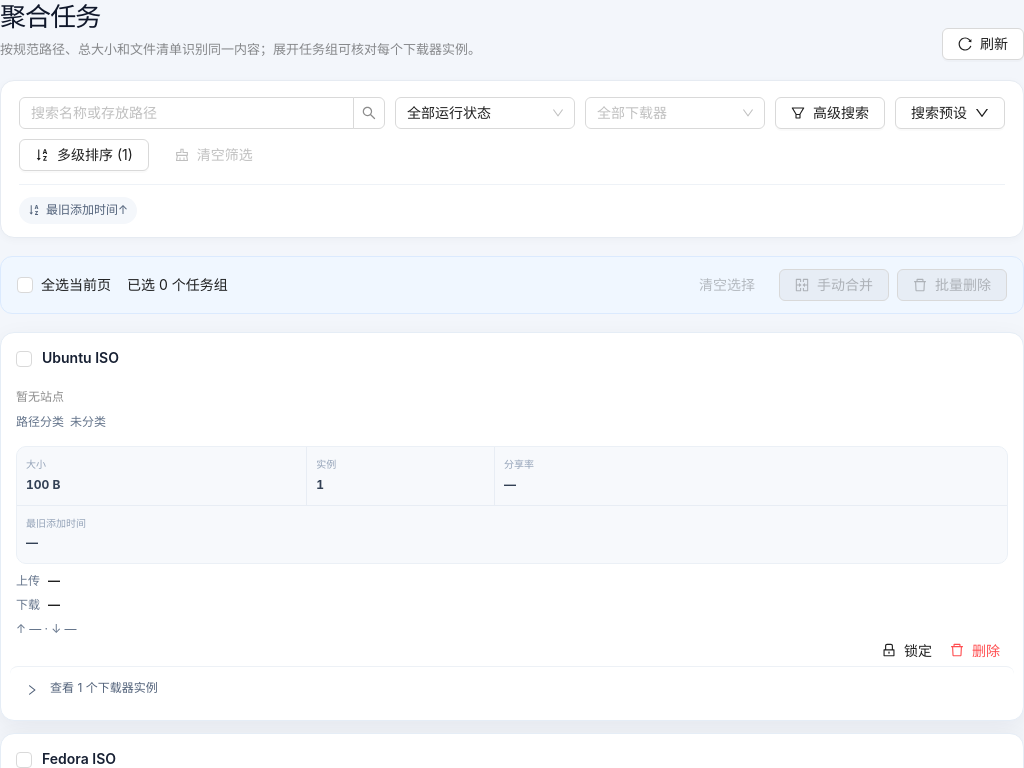
Test: bulk selection and deletion › submits one cross-group plan, tracks the job and clears selection (mobile=true)
Click the 1st checkbox labelled "全选当前页" at x=68, y=285, box [17,274,119,296]
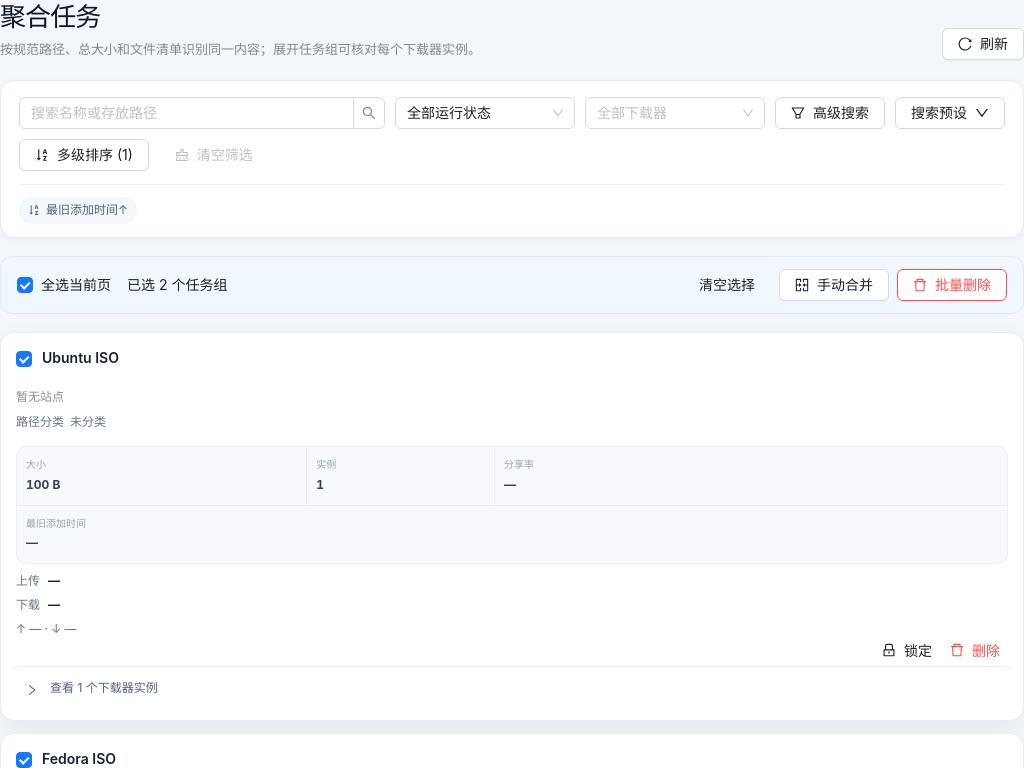
Expected: the text "已选 2 个任务组" is shown, [127,276,227,293]
Click the button "批量删除" at x=952, y=285, box [897,269,1007,301]
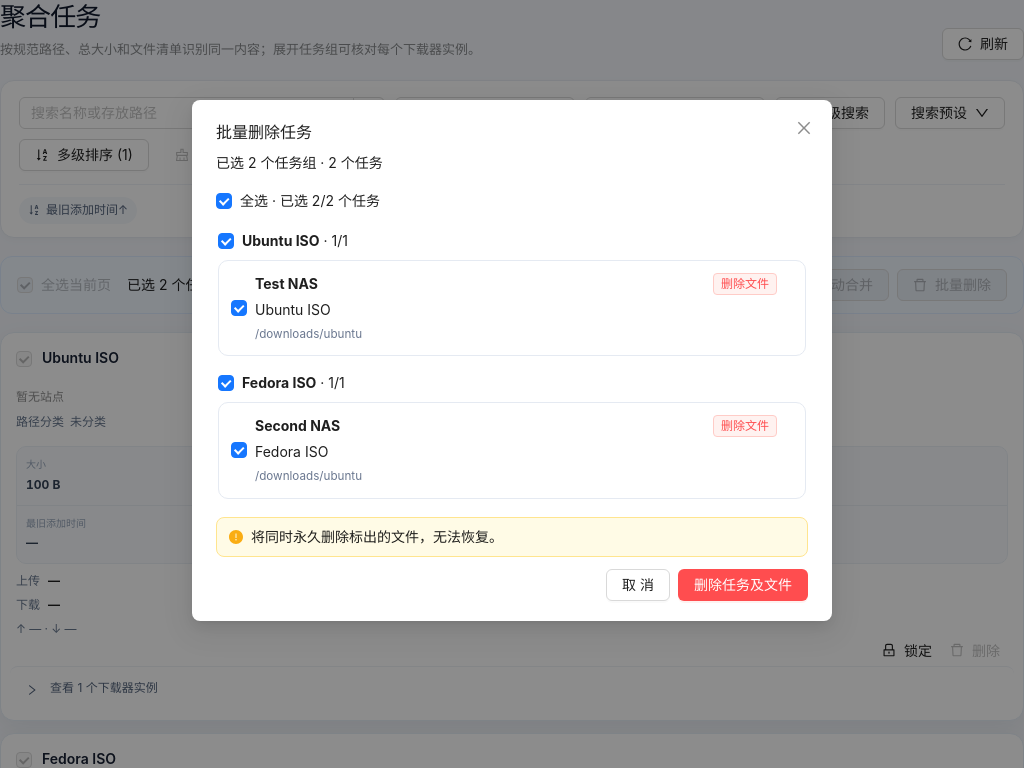
Expected: the text "已选 2 个任务组 · 2 个任务" is shown, [216,154,383,171]
Expected: the 1st checkbox labelled "Test NAS 删除文件 Ubuntu ISO /downloads/ubuntu" is checked, [218,260,806,356]
Expected: the 2nd checkbox labelled "Second NAS 删除文件 Fedora ISO /downloads/ubuntu" is checked, [218,402,806,499]
Click the button "删除任务及文件" at x=743, y=585, box [678,569,808,601]
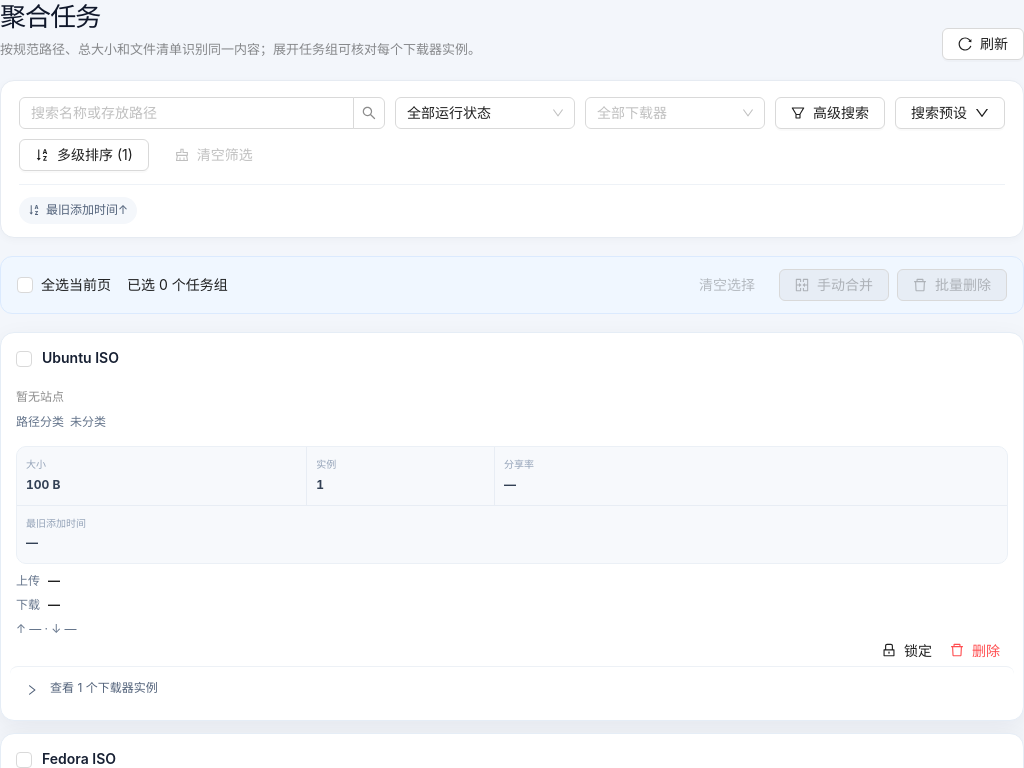
Expected: the button "批量删除" is disabled, [897,269,1007,301]
Expected: the text "已选 0 个任务组" is shown, [127,276,228,293]
